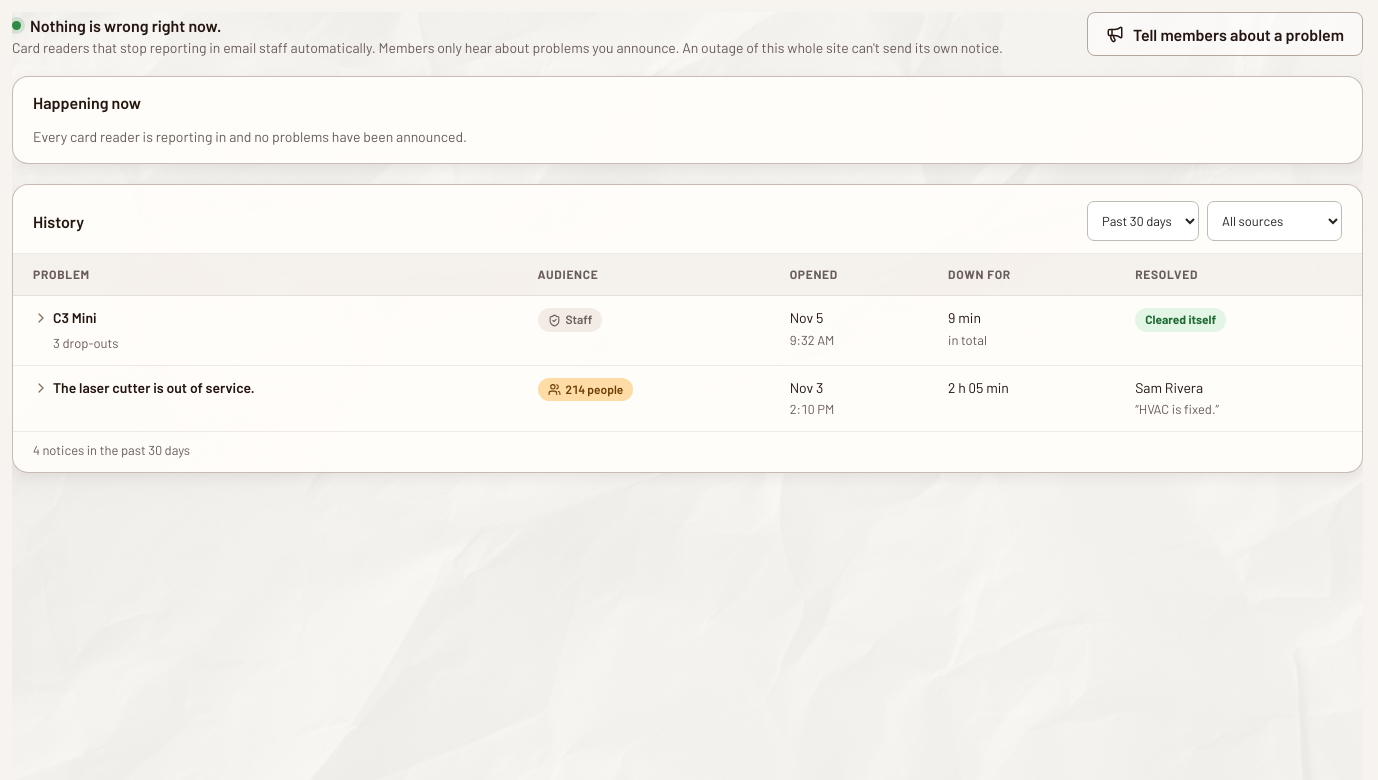
Test: FR-032: a reader's drop-outs on one day share a history row that expands to each one
This screenshot has width=1378, height=780.
Expected: the number of rows is 3, 13,254 -> 1362,296; 13,296 -> 1362,365; 13,365 -> 1362,431
Expected: the row that starts with "C3 Mini" shows "3 drop-outs", 53,335 -> 118,351
Click the button "C3 Mini".
click(65, 319)  # box 33,308 -> 97,329
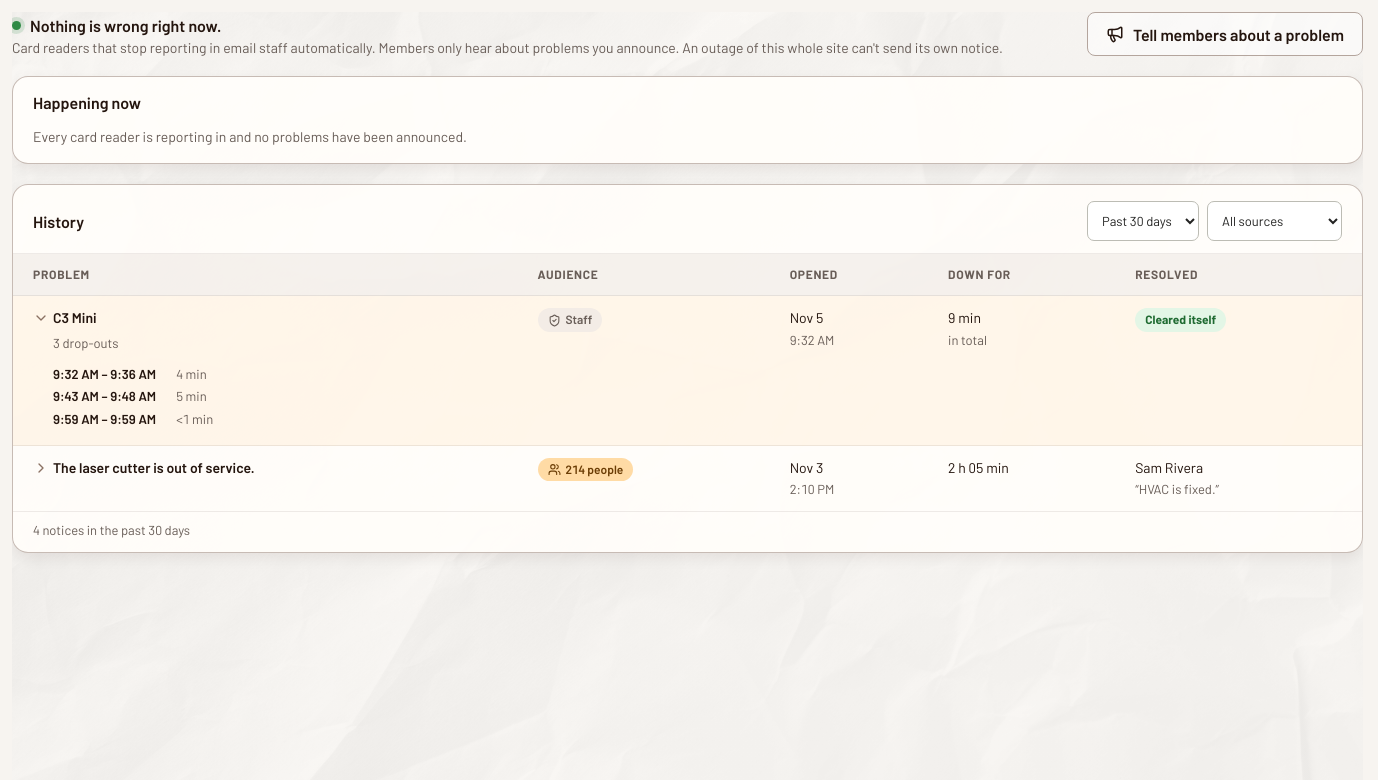
Expected: the row that starts with "The laser cutter is out of service." shows "214 people", 566,462 -> 623,476
Expected: the button "C3 Mini" is expanded, 33,308 -> 97,329
